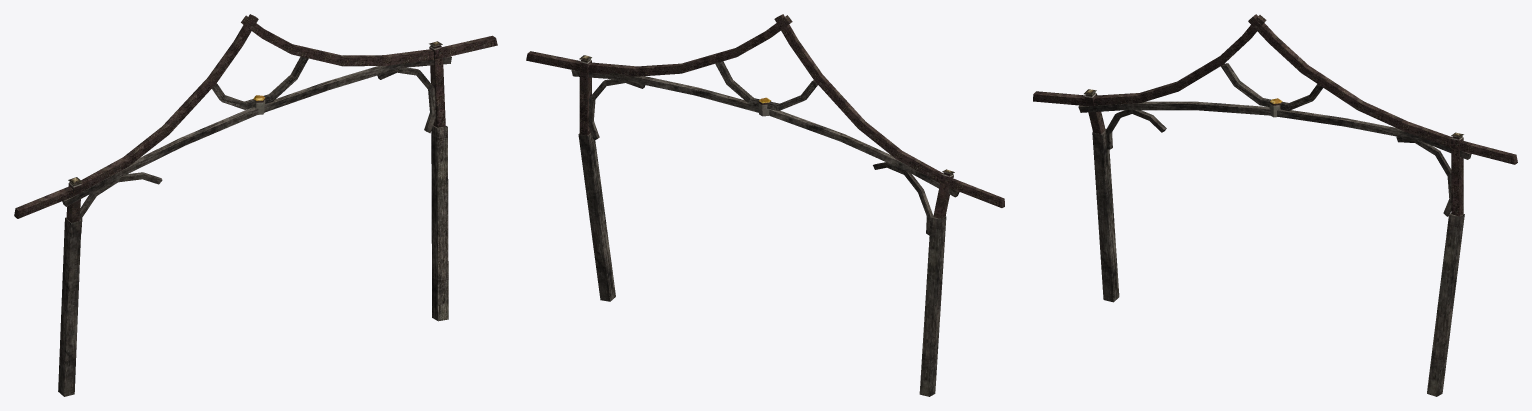
File: TW2_9_ADDONS_12_19-transformed.glb
The picture shows the model from 3 angles, left to right: view 1: azimuth 30°, elevation 25°; view 2: azimuth 150°, elevation 25°; view 3: azimuth 330°, elevation 25°; orthographic projection. The views are drawn at different scales.
Parts seen in each view (by area): view 1: default; view 2: default; view 3: default.
Part boxes in pixels (x1,y1,x2,y2): default: (14,14,497,396); default: (526,14,1004,396); default: (1033,14,1517,396).
Bounding box in the file's own units: 10.15 × 6.87 × 0.8725.
Materials: 3 (3 with a texture image).
